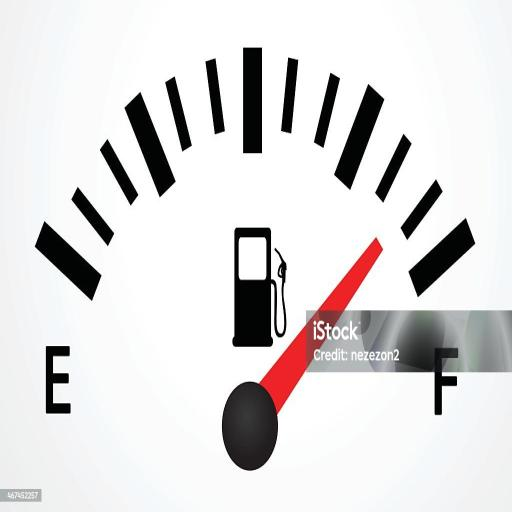empty: (40, 346, 74, 420)
fuel_icon: (230, 224, 284, 349)
full: (434, 349, 464, 421)
guage_area: (26, 45, 483, 475)
needle_center: (222, 374, 284, 472)
needle_tip: (368, 237, 387, 270)
